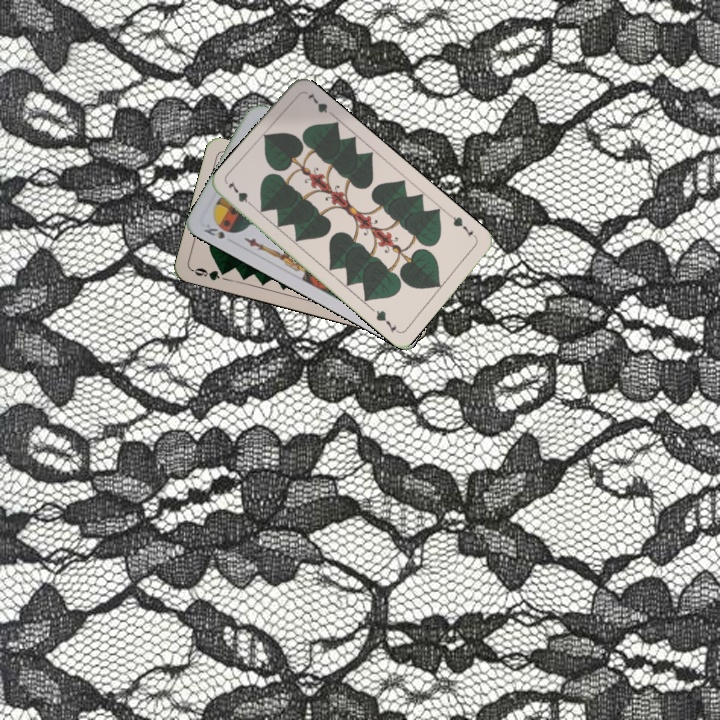G7: (223, 177, 258, 211), (446, 211, 479, 241)
G9: (188, 264, 230, 283)
SK: (200, 219, 236, 241)
